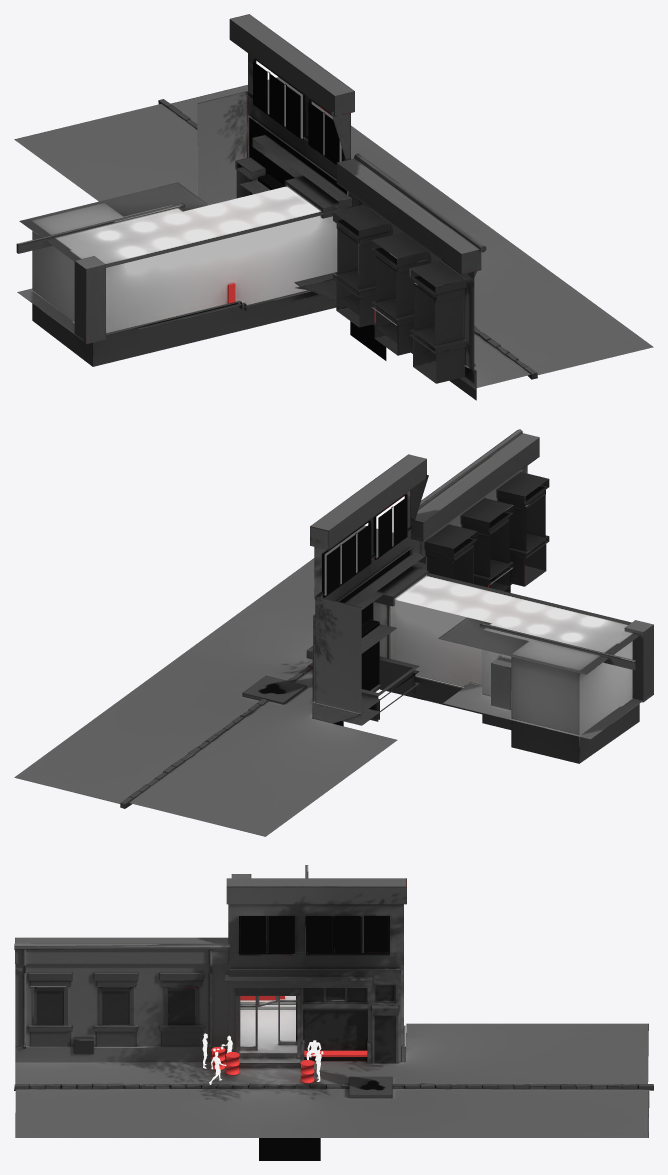
The model's file is world.glb.
3 views of the same model, one above another, from view 1: azimuth 30°, elevation 25°; view 2: azimuth 150°, elevation 25°; view 3: azimuth 270°, elevation 25° (orthographic). The views are drawn at different scales.
Parts seen in each view (by area): view 1: Building, Door; view 2: Building; view 3: Building, Door.
Boxes of the visible parts, bbox=[...] form: Building: bbox=[14, 14, 653, 400]; Door: bbox=[350, 321, 386, 360]; Building: bbox=[14, 429, 653, 836]; Building: bbox=[14, 865, 653, 1137]; Door: bbox=[259, 1138, 320, 1160].
Bounding box in the file's own units: 46.89 × 28.49 × 65.23.
Materials: 7 (4 with a texture image).
